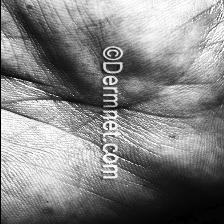Unclassified: (162, 129, 180, 147), (38, 209, 48, 220)
